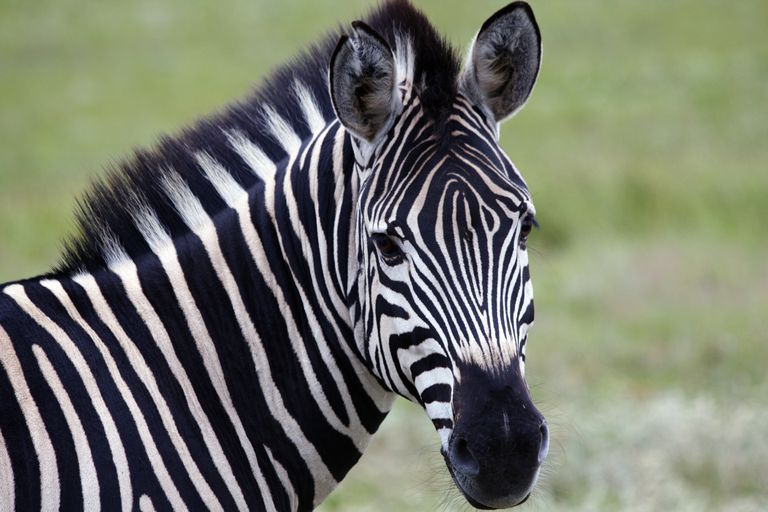zebra: (1, 1, 571, 512)
